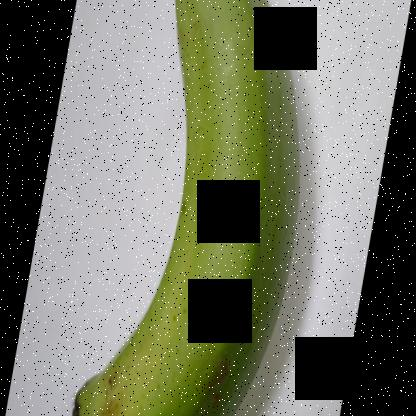freshunripe: (64, 0, 326, 415)
